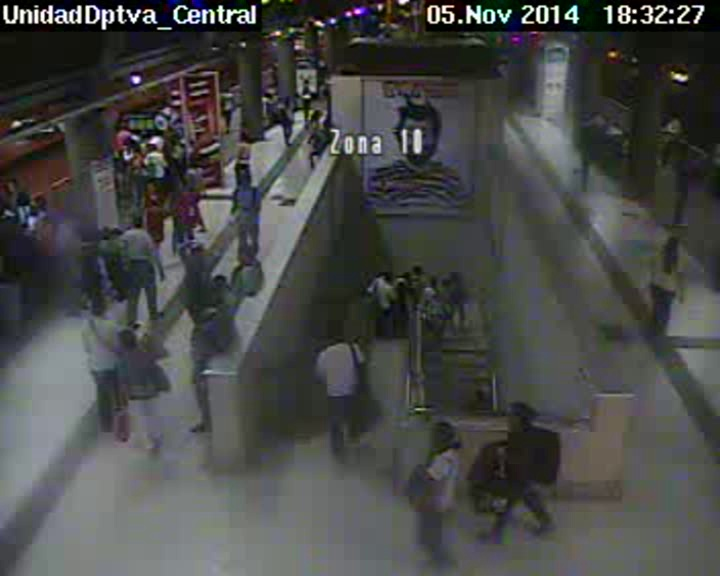person: (502, 401, 534, 431), (428, 422, 455, 449), (117, 329, 141, 352), (87, 298, 108, 321), (210, 272, 229, 294), (664, 235, 680, 257), (202, 292, 218, 310), (328, 324, 344, 341), (240, 246, 257, 262), (189, 239, 205, 255), (86, 238, 102, 253), (239, 173, 253, 186), (19, 191, 31, 205), (682, 149, 694, 163), (131, 216, 144, 228), (43, 206, 54, 219), (187, 156, 198, 168), (7, 180, 18, 192), (179, 177, 189, 190), (239, 129, 249, 142), (449, 273, 460, 284), (151, 195, 162, 206), (380, 268, 390, 280), (429, 277, 439, 288), (412, 264, 422, 274), (395, 281, 405, 291), (148, 180, 157, 191), (38, 195, 46, 207), (134, 149, 143, 159), (312, 109, 321, 119), (224, 88, 233, 97), (149, 142, 157, 151), (120, 123, 128, 132), (267, 87, 276, 95), (284, 93, 291, 103), (268, 65, 276, 72), (264, 93, 271, 100), (303, 80, 310, 85)
